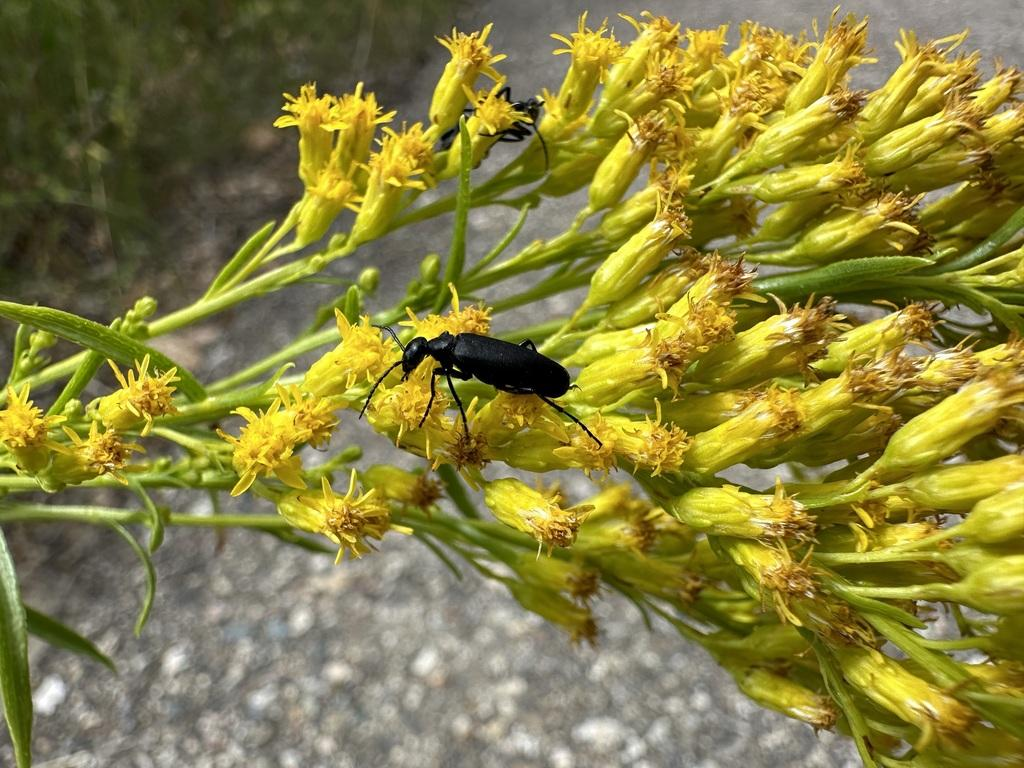blister_beetle: (331, 294, 631, 466)
